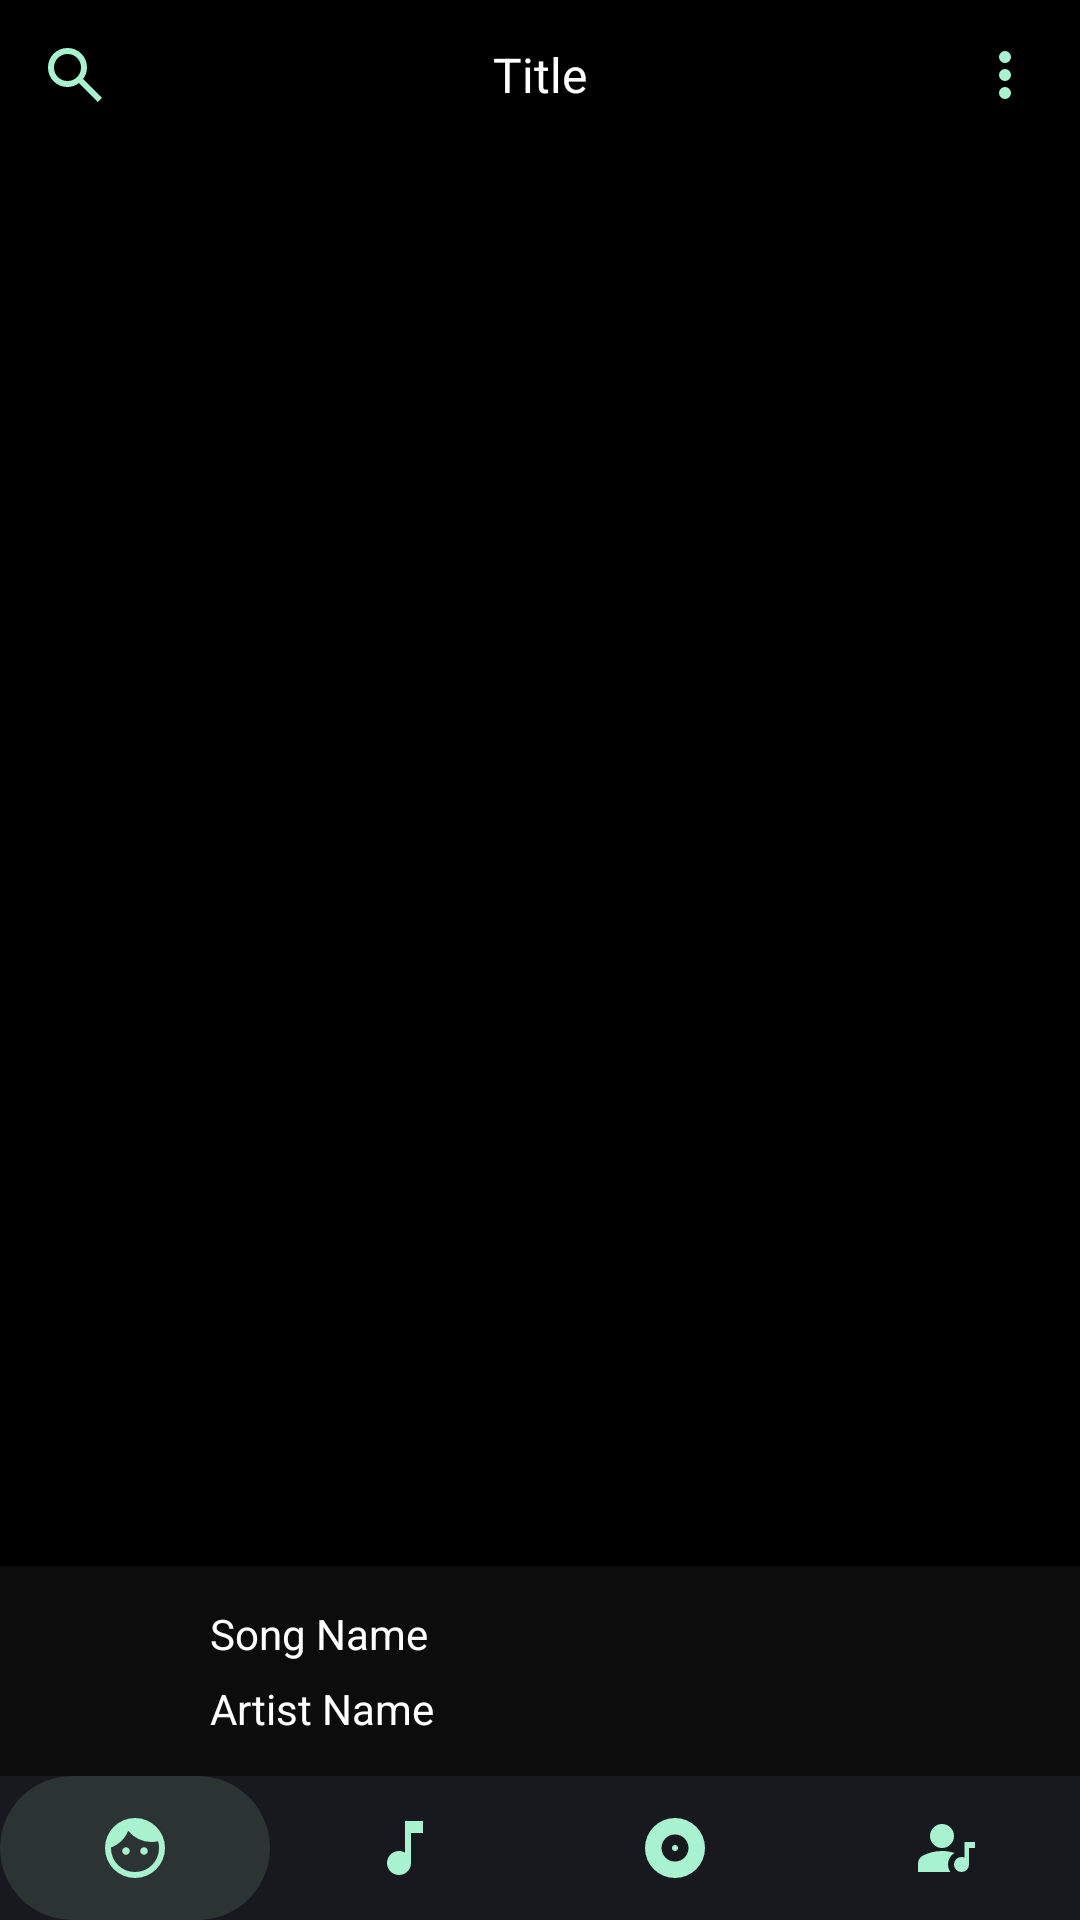

Where icons sit on this 1080×1920 app screen, as Rect(x1, y1, x2, y2):
More options: Rect(999, 51, 1011, 99)
Search: Rect(48, 48, 102, 102)
